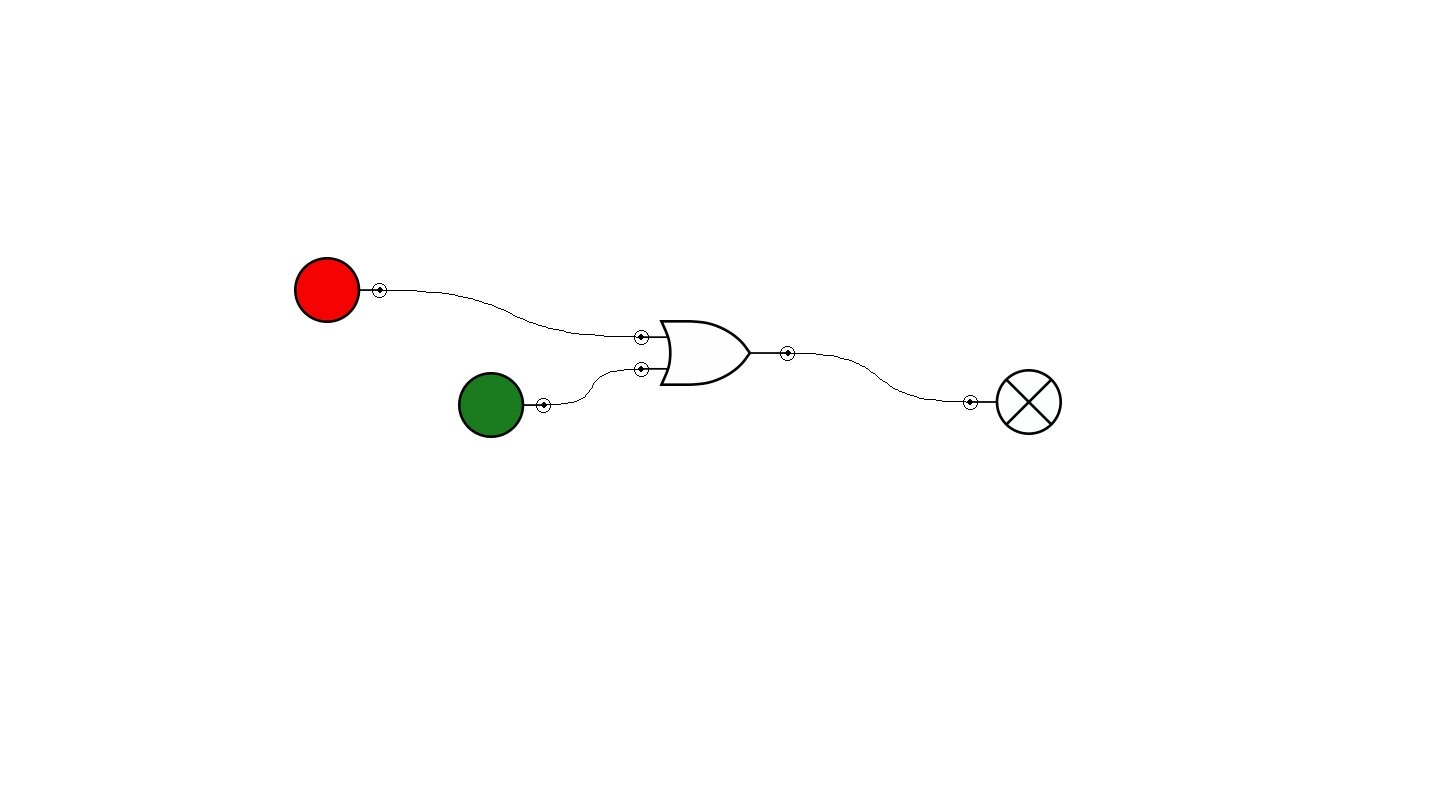bulb: (963, 369, 1062, 435)
or: (634, 320, 795, 386)
switch_False: (294, 257, 387, 323)
switch_True: (458, 372, 551, 438)
